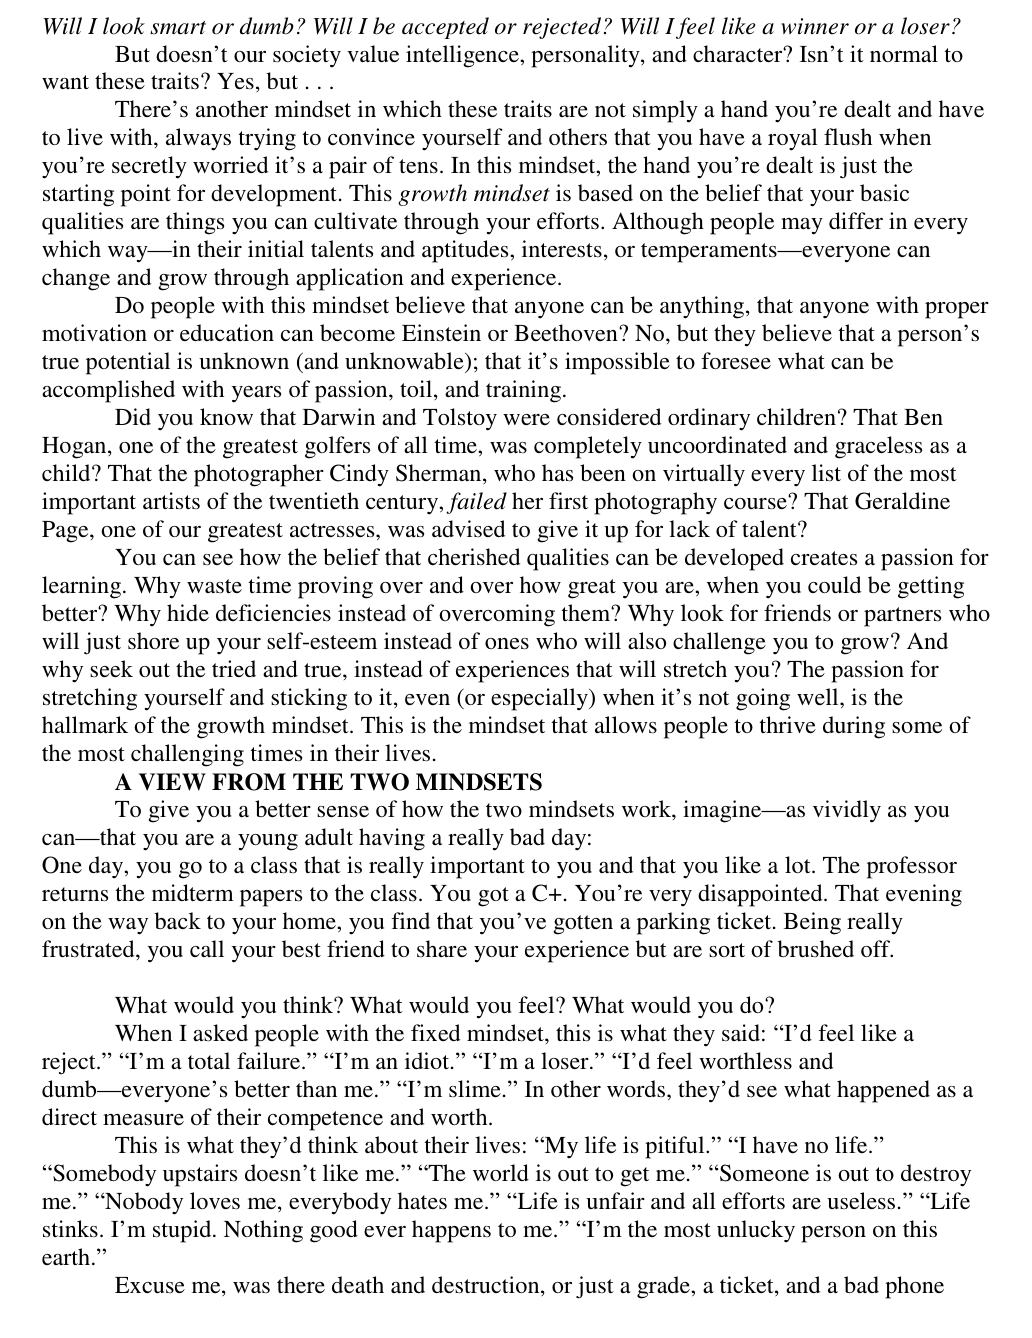latin: (39, 540, 993, 767), (38, 95, 986, 291), (38, 797, 964, 969), (37, 1127, 973, 1270), (36, 406, 970, 543), (37, 992, 976, 1127), (30, 293, 990, 407), (38, 46, 968, 90), (38, 8, 964, 46), (114, 1272, 945, 1297), (112, 773, 543, 794)
